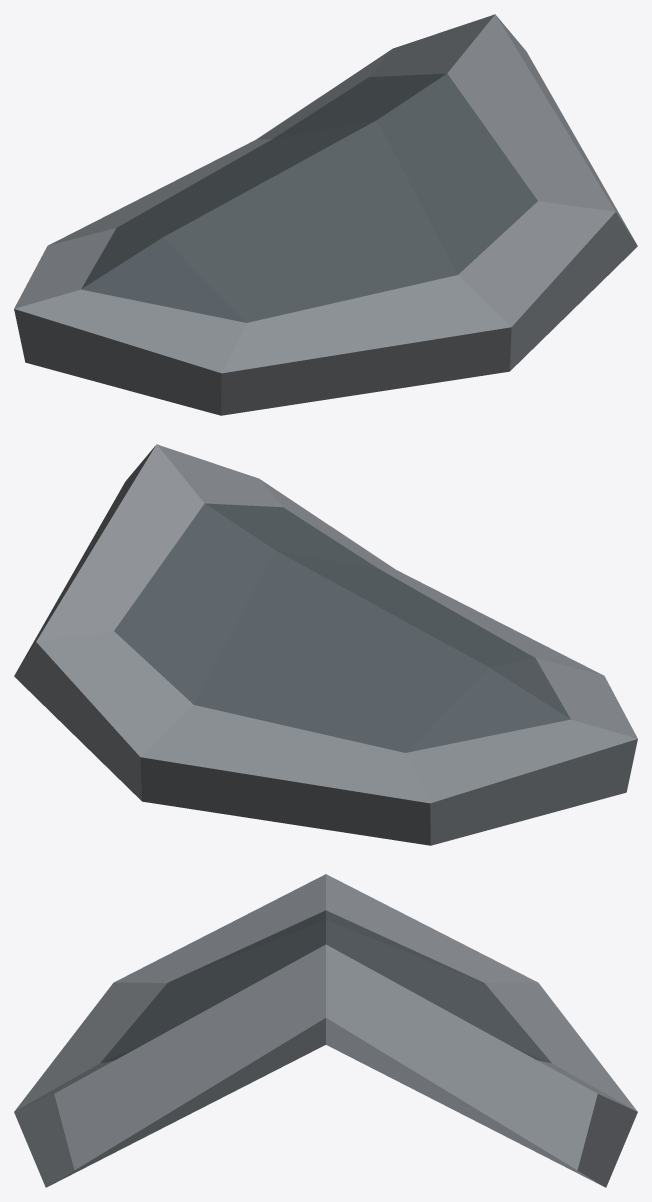
Rendered from Chr_ShoulderAttachRight_17_Static.fbx.
3 views of the same model, one above another, from view 1: azimuth 30°, elevation 25°; view 2: azimuth 150°, elevation 25°; view 3: azimuth 270°, elevation 25° (orthographic). The views are drawn at different scales.
Visible parts, largest first — view 1: Chr_ShoulderAttachRight_17_Static; view 2: Chr_ShoulderAttachRight_17_Static; view 3: Chr_ShoulderAttachRight_17_Static.
Boxes of the visible parts, x1,y1,x2,y2 form: Chr_ShoulderAttachRight_17_Static: (14, 14, 637, 415); Chr_ShoulderAttachRight_17_Static: (14, 444, 637, 845); Chr_ShoulderAttachRight_17_Static: (14, 874, 637, 1187).
Size of the model in its own units: 0.2415 by 0.1158 by 0.2056.
